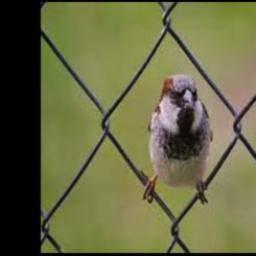Sparrow: (147, 74, 212, 190)
